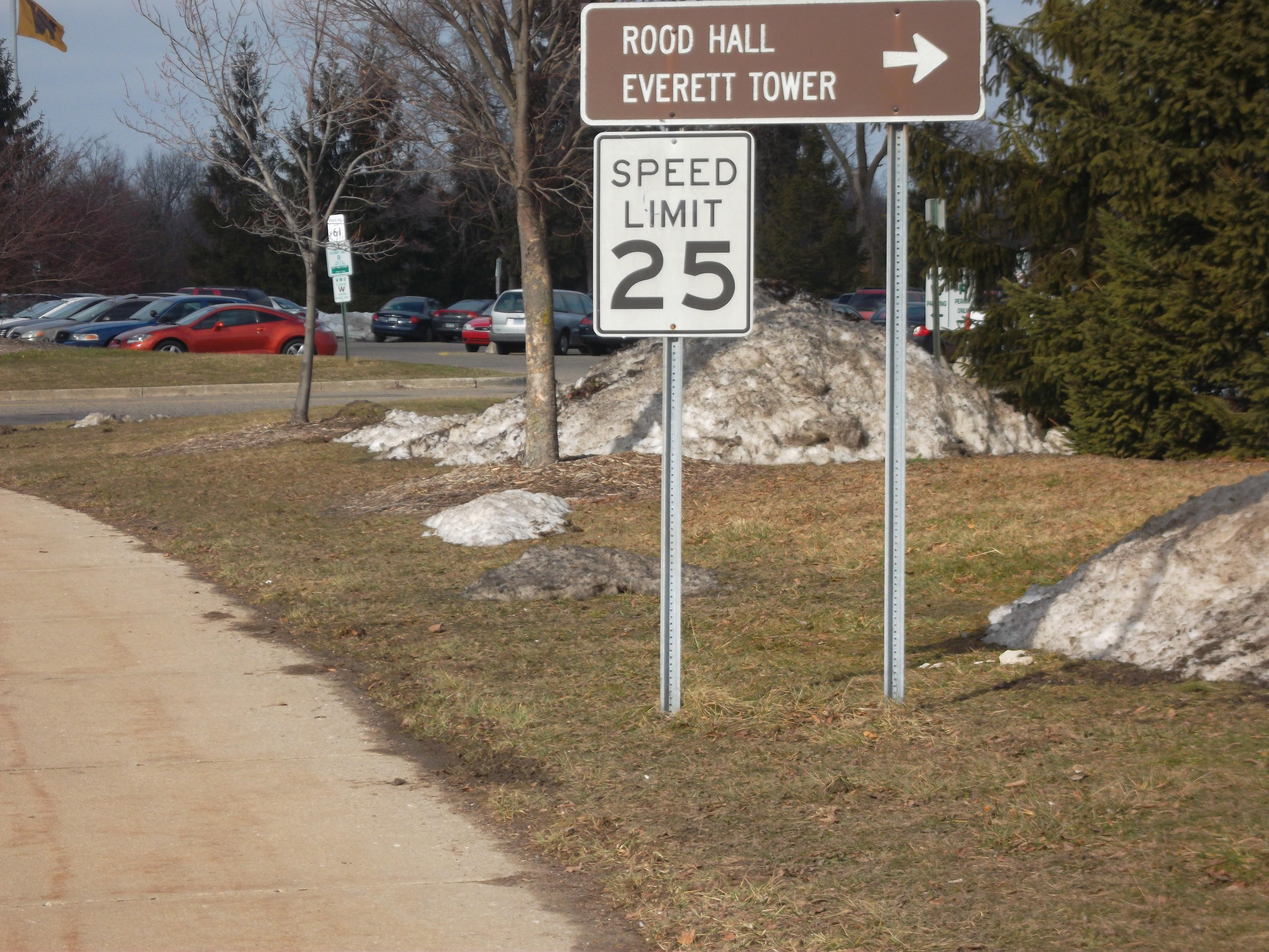Speed Limit 25mph: (601, 141, 745, 319)
